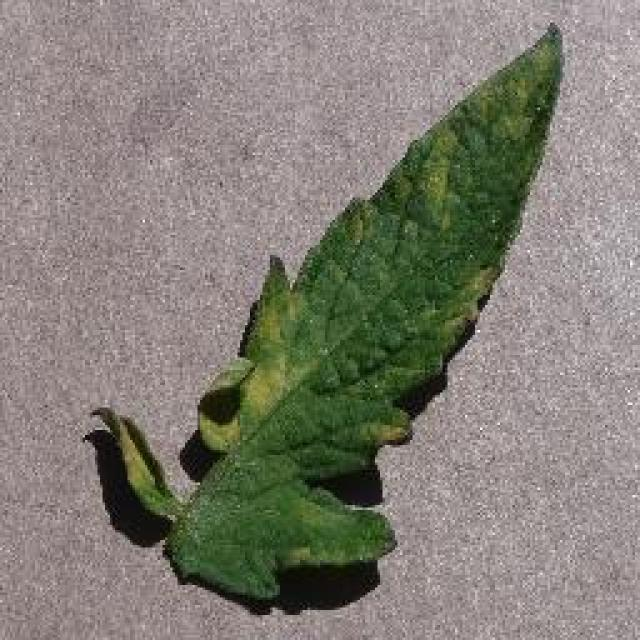Tomato___Leaf_Mold: (92, 30, 560, 598)
